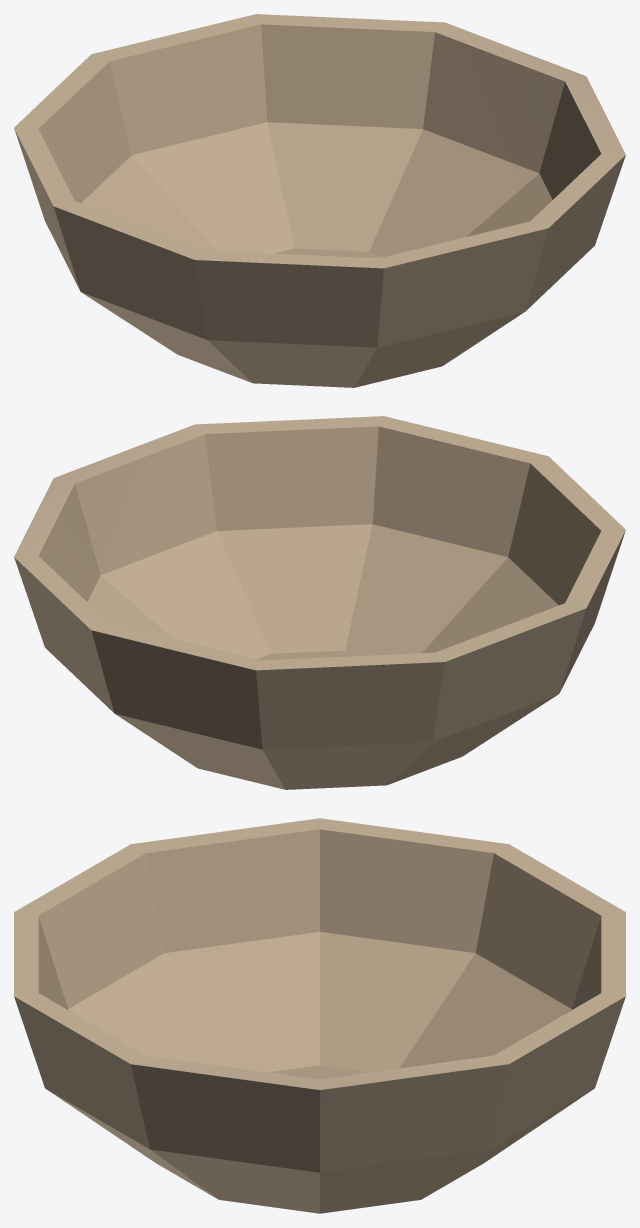
The model's file is SM_Prop_Bowl_01.fbx.
3 views of the same model, one above another, from view 1: azimuth 30°, elevation 25°; view 2: azimuth 150°, elevation 25°; view 3: azimuth 270°, elevation 25° (orthographic). The views are drawn at different scales.
Visible parts, largest first — view 1: SM_Prop_Bowl_01; view 2: SM_Prop_Bowl_01; view 3: SM_Prop_Bowl_01.
Part boxes in pixels (<box>): SM_Prop_Bowl_01: <box>14,14,625,387</box>; SM_Prop_Bowl_01: <box>14,416,625,789</box>; SM_Prop_Bowl_01: <box>14,818,625,1213</box>.
Size of the model in its own units: 0.00483 by 0.00158 by 0.0046.
Materials: 1 (1 with a texture image).
